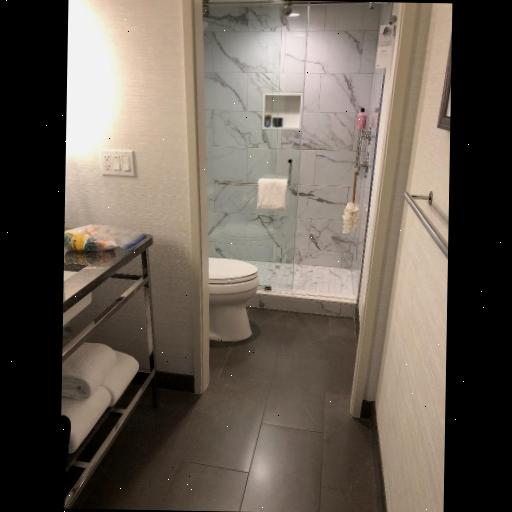clean shower: (193, 6, 378, 315)
clean_floor: (77, 307, 379, 512)
folded_towel: (62, 337, 151, 452), (252, 180, 290, 213)
